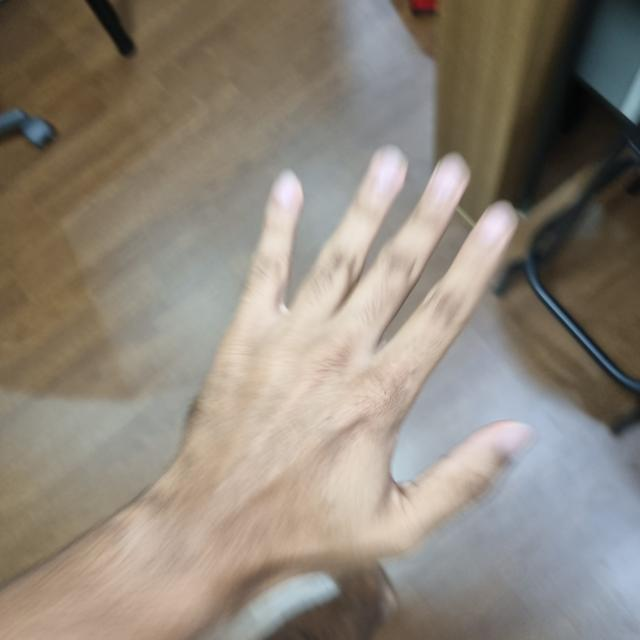Paper: (180, 158, 525, 582)
